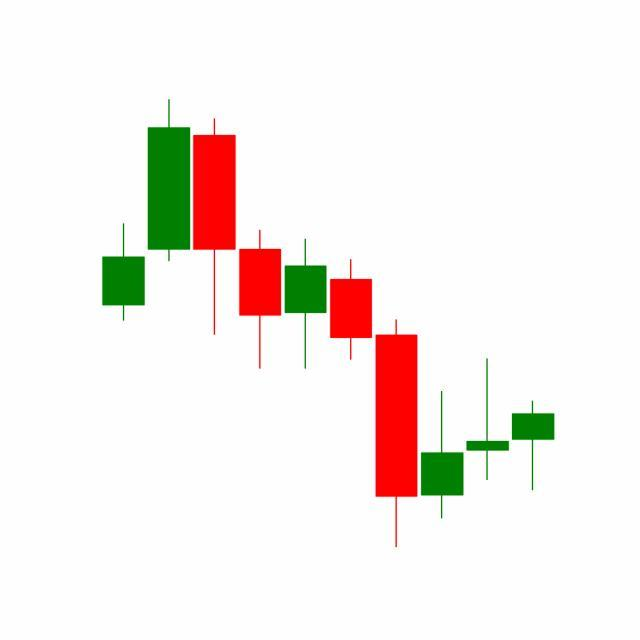Hikkake Pattern: (283, 235, 512, 549)
